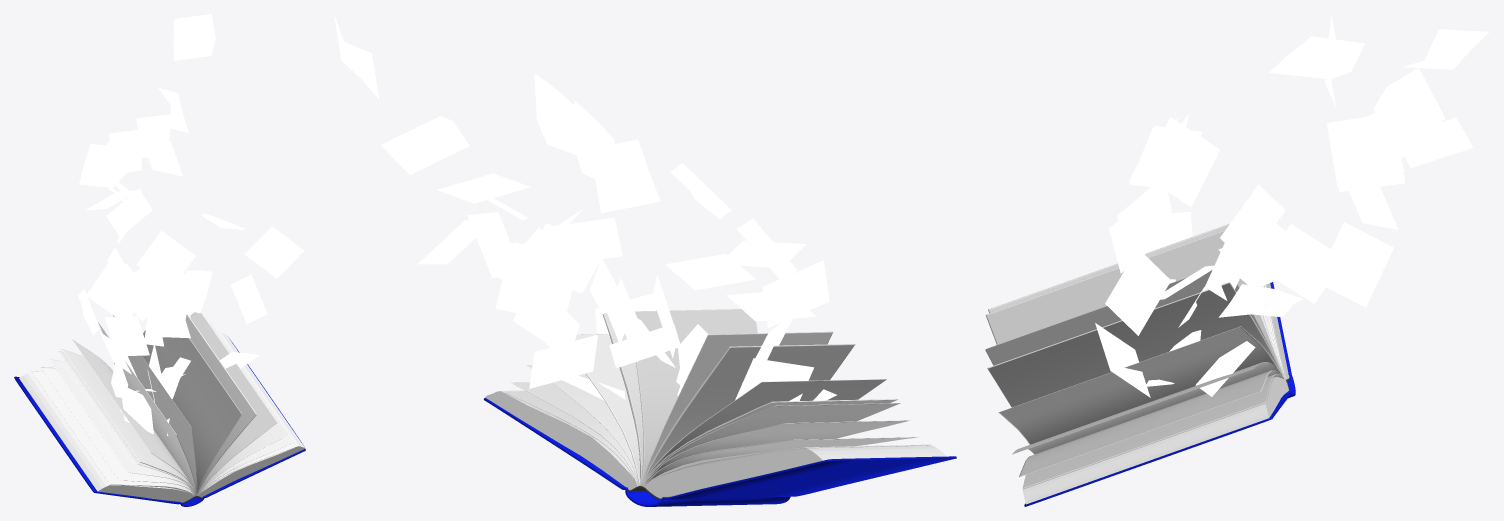
3 views of the same model, side by side, from view 1: azimuth 30°, elevation 25°; view 2: azimuth 150°, elevation 25°; view 3: azimuth 270°, elevation 25° (orthographic). The views are drawn at different scales.
Visible parts, largest first — view 1: page_10, page_1, page_12, page_6, page_4, page_3, page_11, page_9, nation.005, page_2, peace.008, page_7 (+31 smaller); view 2: cover, page_8, page_10, page_1, page_7, peace.002, page_16, peace.003, page_9, page_5, page_4, peace.005 (+32 smaller); view 3: page_11, page_12, page_9, page_16, page_14, peace.005, nation.003, page_15, page_10, peace.007, war.006, page_13 (+21 smaller).
Part boxes in pixels (box(x1,y1,x2,y2)): page_10: box(142, 330, 241, 494); page_1: box(19, 371, 193, 502); page_12: box(190, 312, 277, 495); page_6: box(61, 349, 195, 495); page_4: box(49, 359, 194, 495); page_3: box(41, 367, 194, 495); page_11: box(181, 305, 256, 495); page_9: box(113, 315, 197, 495); nation.005: box(136, 231, 195, 289); page_2: box(32, 371, 194, 496); peace.008: box(173, 14, 215, 60); page_7: box(72, 339, 195, 495); cover: box(483, 398, 956, 506); page_8: box(641, 344, 855, 485); page_10: box(635, 309, 757, 485); page_1: box(644, 445, 946, 498); page_7: box(642, 379, 886, 486); peace.002: box(581, 139, 660, 213); page_16: box(485, 390, 637, 489); peace.003: box(521, 223, 608, 293); page_9: box(641, 331, 832, 485); page_5: box(643, 403, 900, 486); page_4: box(643, 420, 910, 486); peace.005: box(381, 116, 469, 174); page_11: box(987, 282, 1285, 407); page_12: box(998, 326, 1285, 444); page_9: box(985, 230, 1285, 379); page_16: box(1022, 377, 1288, 504); page_14: box(1019, 370, 1282, 477); peace.005: box(1373, 68, 1445, 159); nation.003: box(1258, 224, 1346, 303); page_15: box(1023, 374, 1284, 488); page_10: box(985, 270, 1281, 371); peace.007: box(1326, 222, 1393, 307); war.006: box(1105, 248, 1170, 335); page_13: box(1012, 362, 1283, 454).
Bounding box in the file's own units: 6.33 × 8.48 × 6.9.
38 materials, 4 textured.
